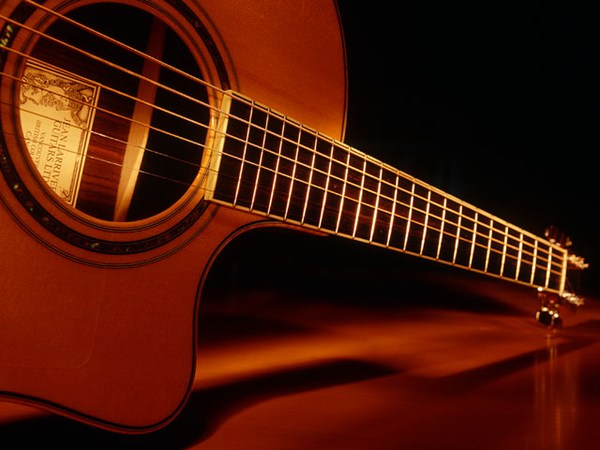guitar: (1, 1, 593, 434)
